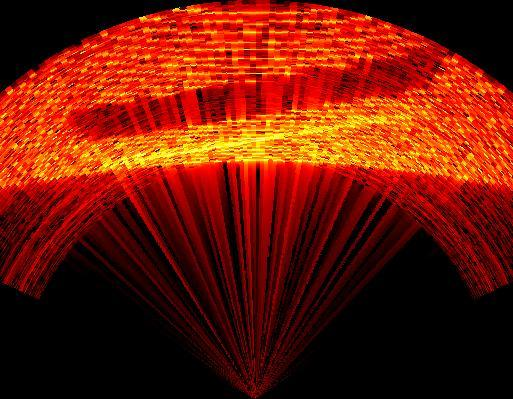pipe: (72, 48, 452, 144)
